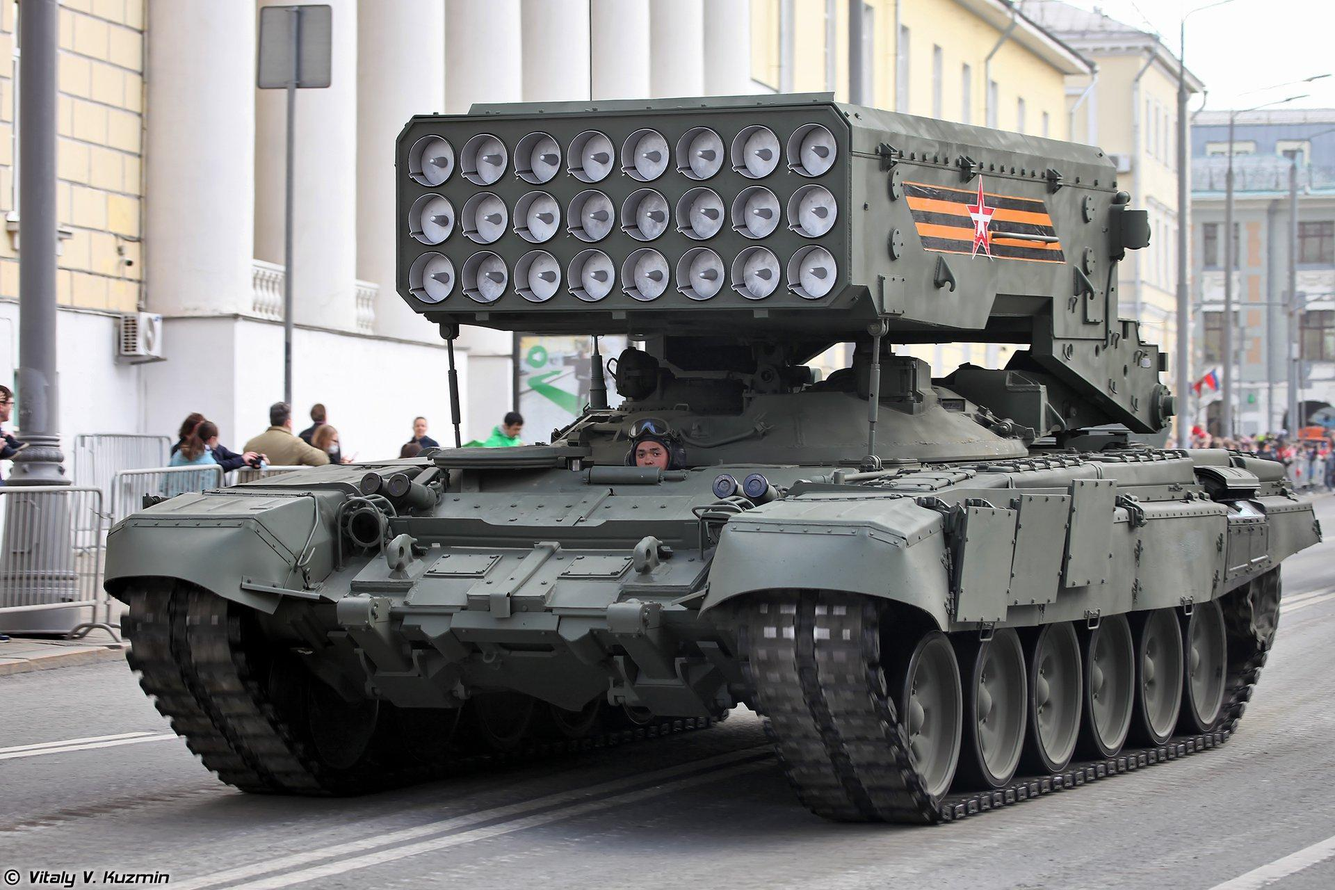rszo: (108, 71, 1288, 796)
